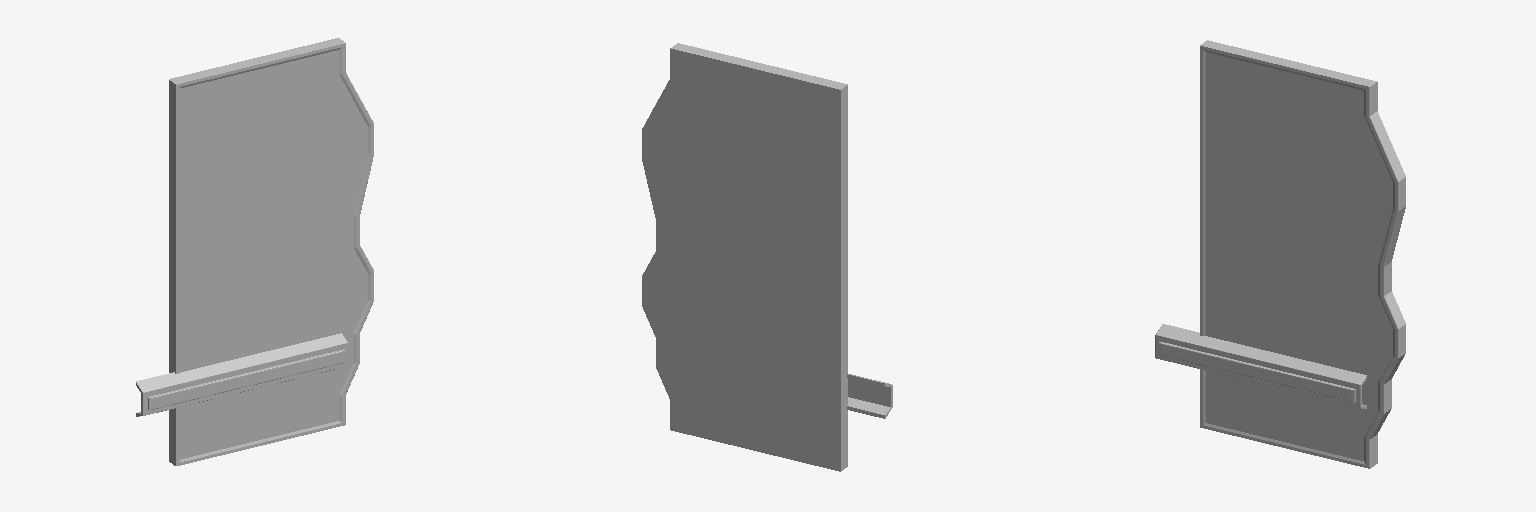
Rendered from LeftDoor.obj.
3 views of the same model, side by side, from view 1: azimuth 30°, elevation 25°; view 2: azimuth 150°, elevation 25°; view 3: azimuth 330°, elevation 25° (orthographic).
Visible parts, largest first — view 1: Cylinder; view 2: Cylinder; view 3: Cylinder.
Boxes of the visible parts, x1,y1,x2,y2 form: Cylinder: [136, 38, 373, 465]; Cylinder: [642, 43, 892, 471]; Cylinder: [1155, 40, 1405, 468].
Bounding box in the file's own units: 5.03 × 7.72 × 0.538.